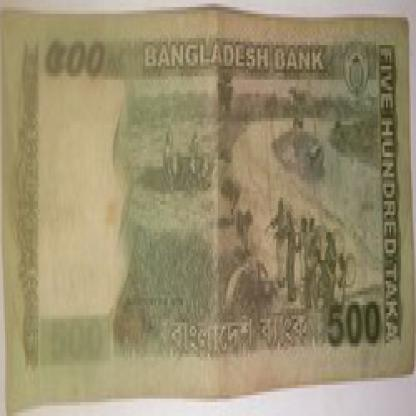500 taka: (43, 38, 125, 101)
currency: (0, 10, 415, 382)
